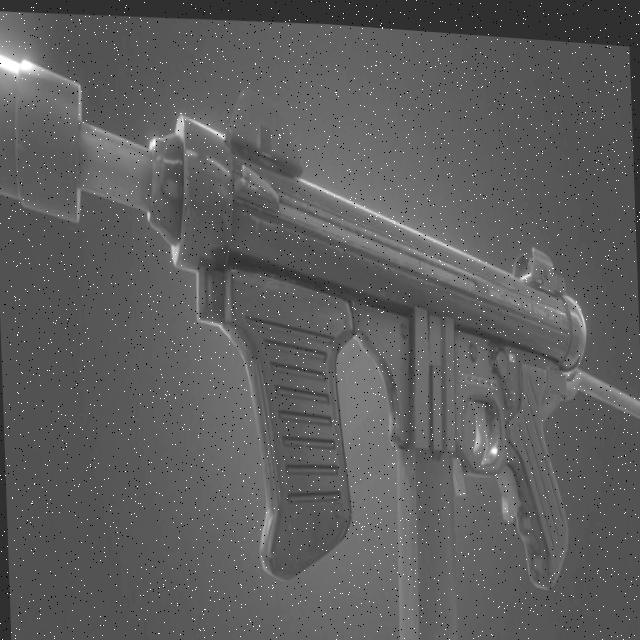firearm: (0, 26, 640, 640)
